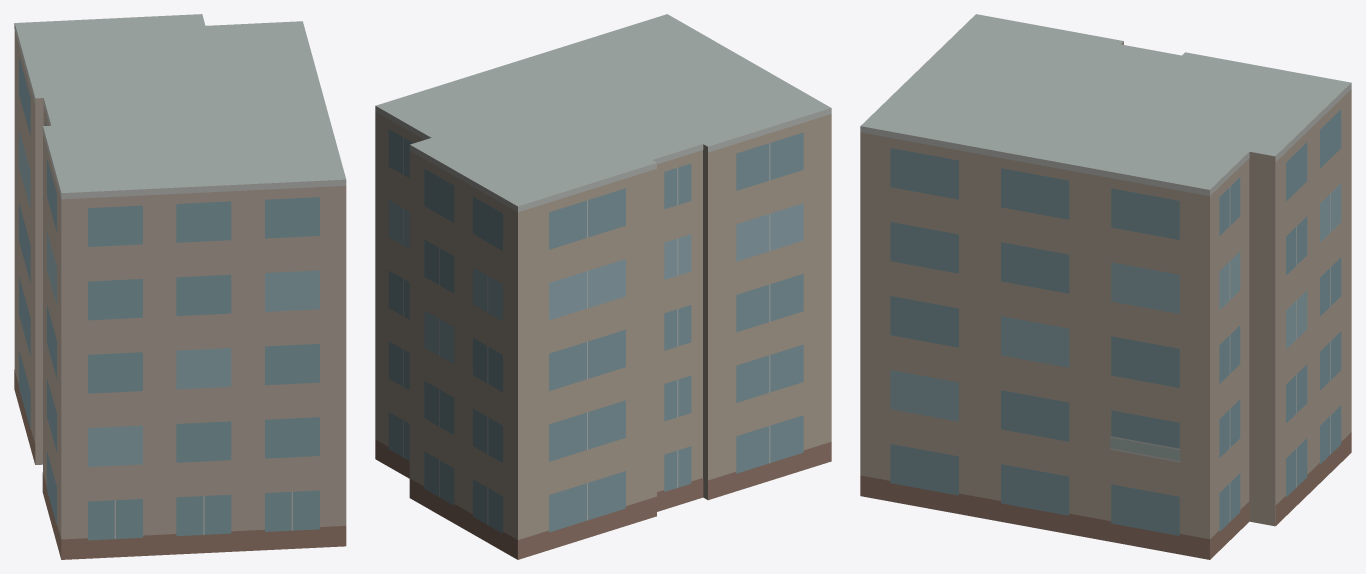
The model's file is survey-upis-33013825.glb.
The picture shows the model from 3 angles, left to right: view 1: azimuth 30°, elevation 25°; view 2: azimuth 150°, elevation 25°; view 3: azimuth 270°, elevation 25°; orthographic projection. The views are drawn at different scales.
Visible parts, largest first — view 1: survey-upis-33013825.tmp; view 2: survey-upis-33013825.tmp; view 3: survey-upis-33013825.tmp.
Boxes of the visible parts, left/top/right/bottom form: survey-upis-33013825.tmp: left=14, top=14, right=346, bottom=559; survey-upis-33013825.tmp: left=375, top=14, right=831, bottom=559; survey-upis-33013825.tmp: left=860, top=14, right=1351, bottom=559.
Bounding box in the file's own units: 14.8 × 14.5 × 17.45.
